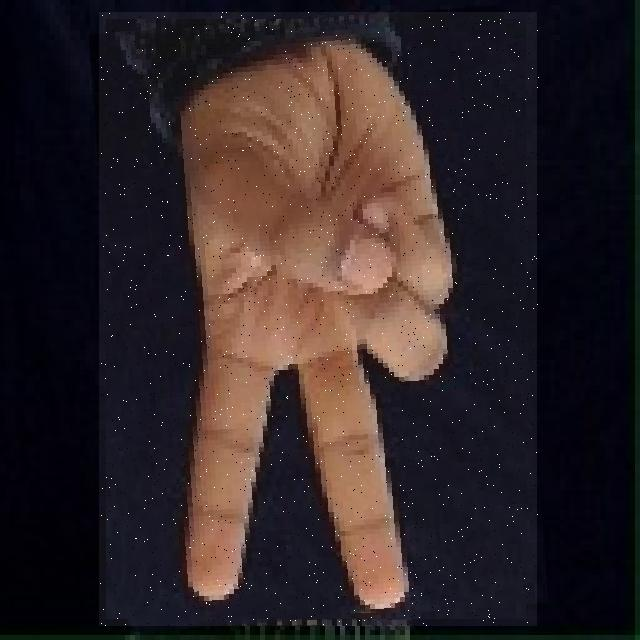No: (100, 12, 540, 626)
